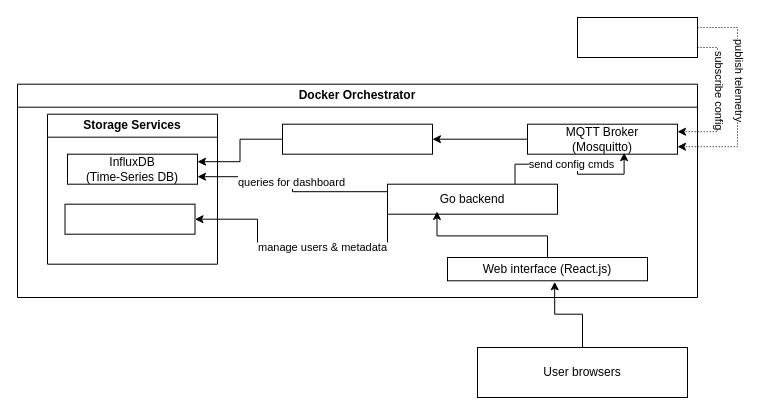
Image size: 763x415. Some labels were removed from this diagram. Each missing label, with the centre of its shape:
"Edge Node Modules" belongs at point 637,37.
"MongoDB (Document DB)" belongs at point 129,218.
"Telegraf (MQTT InfluxDB)" belongs at point 357,138.
